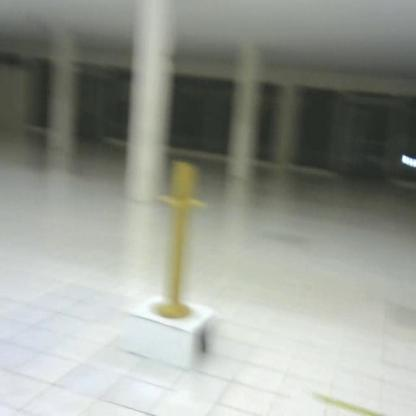pole: (150, 157, 211, 322)
